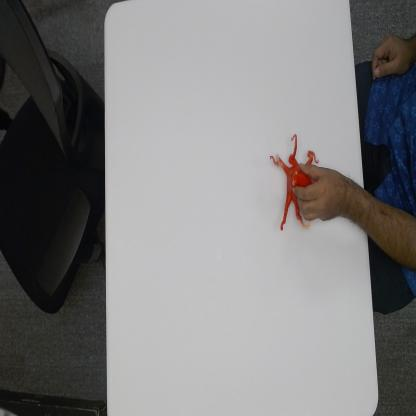Hand: (291, 160, 353, 223)
Octopus: (269, 132, 320, 232)
